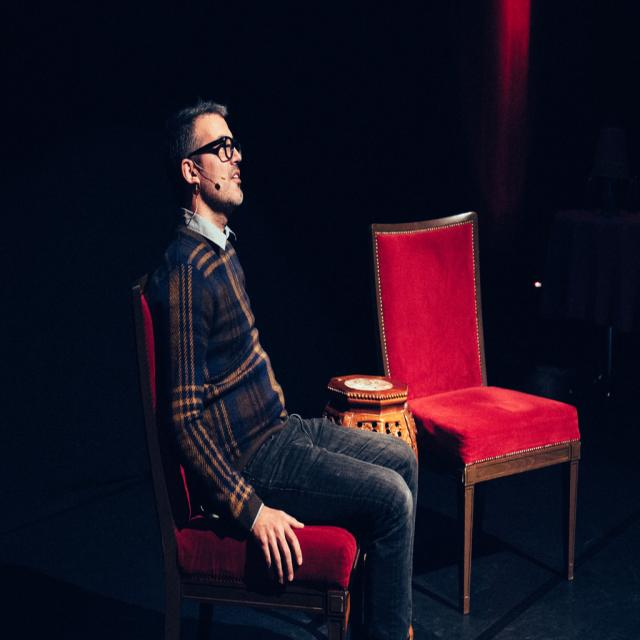Chair: (131, 286, 365, 640), (370, 226, 580, 616)
